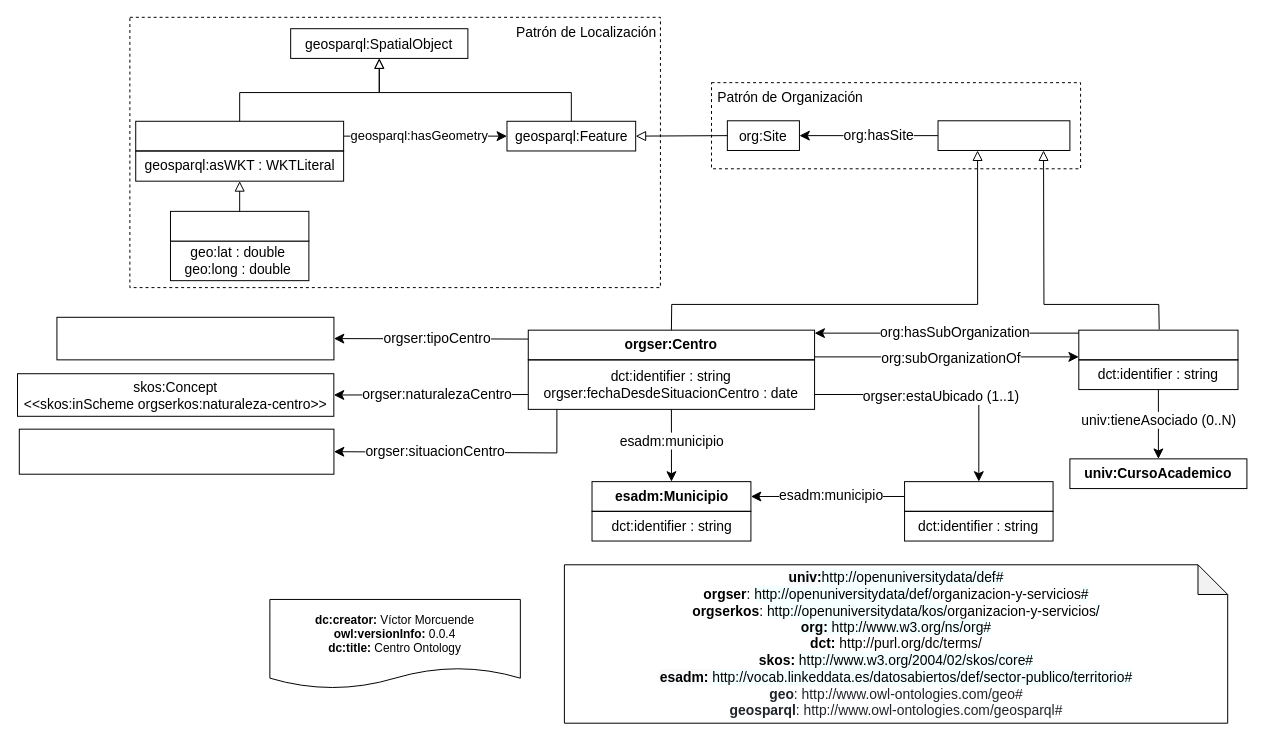
Image size: 1264x741. Some labels were removed from this diagram. Here are the shapes that lost their labels. From the top down, the box of each, then its label:
(135, 120, 344, 151): geosparql:Geometry
(937, 120, 1070, 150): org:Organization
(169, 210, 309, 241): geosparql:Point
(56, 316, 334, 360): skos:Concept <<skos:inScheme orgserkos:tipo-centro>>
(1078, 329, 1238, 360): univ :Universidad
(18, 428, 334, 474): skos:Concept <<skos:inScheme orgserkos:situacion-centro>>
(904, 481, 1053, 511): orgser :Campus
